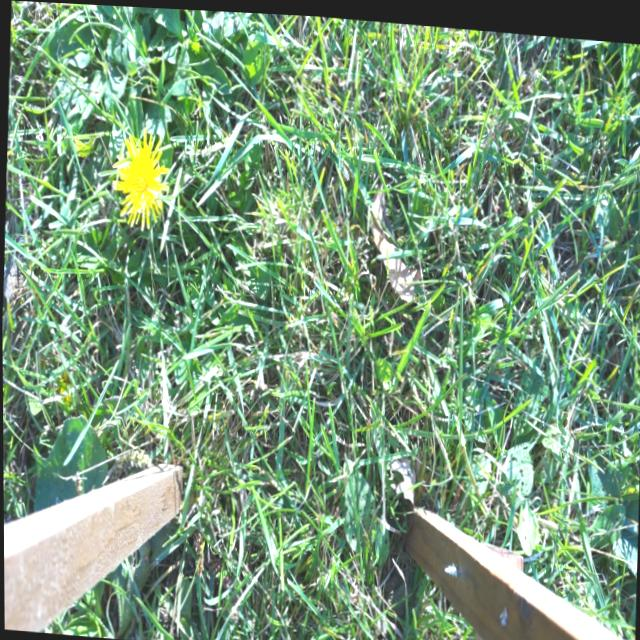flower: (114, 132, 168, 224)
